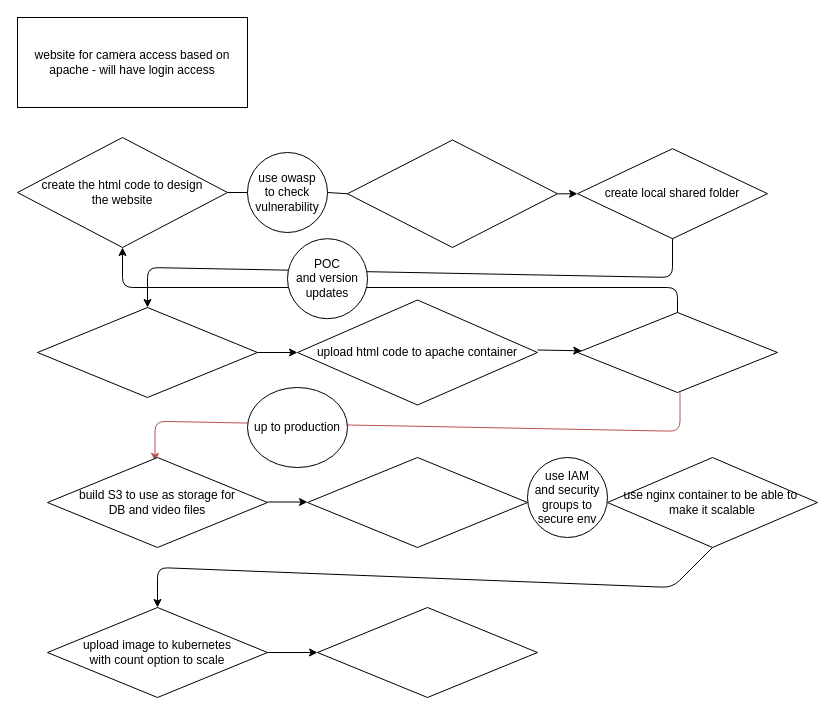
This 835x715 diagram has some shape labels left out. The centre of each missing label's shape, as x and y in pixels:
create ubuntu machine + docker, install apache container: point 147,352
install prometheus to monitor env: point 427,652
save image, upload to aws repository: point 677,352
use kubernetes as service in aws: point 417,502
use selenium to test it on different browsers: point 452,193
